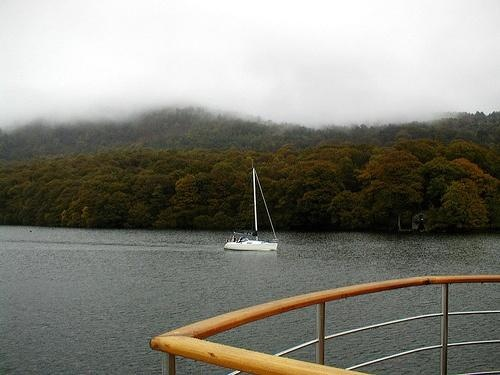boat: (225, 161, 281, 252)
